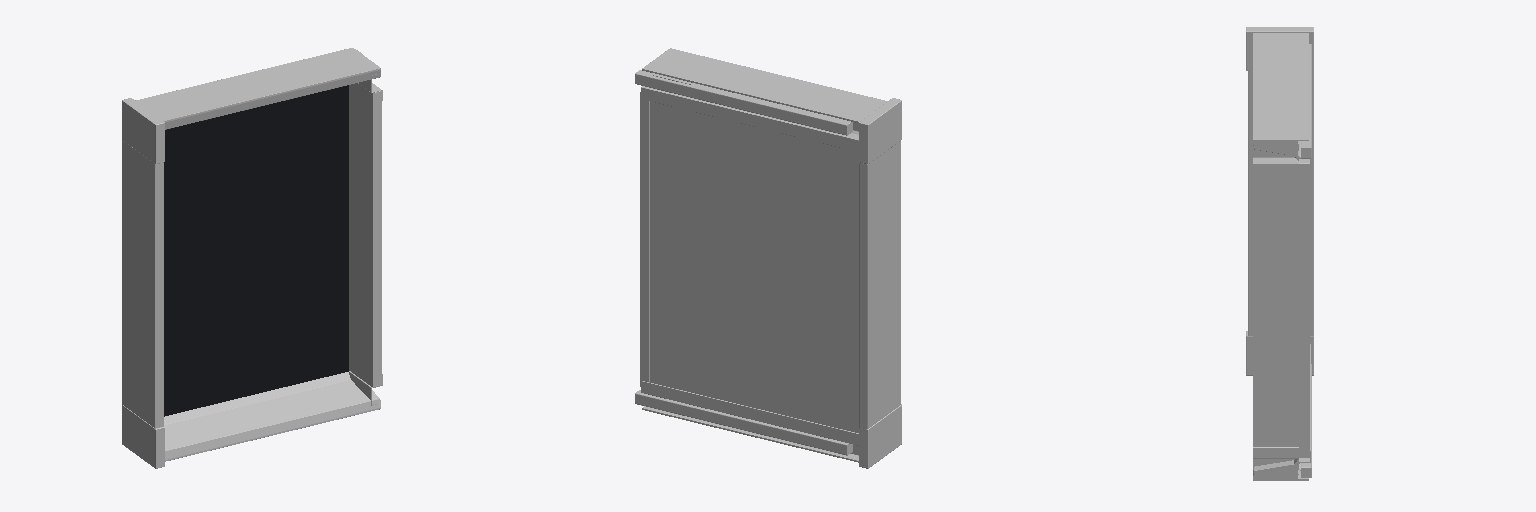
3 views of the same model, side by side, from view 1: azimuth 30°, elevation 25°; view 2: azimuth 150°, elevation 25°; view 3: azimuth 270°, elevation 25° (orthographic).
Visible parts, largest first — view 1: SM_Kitchen_08_Sink_Drawer_021d01d01d0_SM_Kitchen_08_Sink_Drawer_; view 2: SM_Kitchen_08_Sink_Drawer_021d01d01d0_SM_Kitchen_08_Sink_Drawer_; view 3: SM_Kitchen_08_Sink_Drawer_021d01d01d0_SM_Kitchen_08_Sink_Drawer_.
Part boxes in pixels (left/top/right/bottom): SM_Kitchen_08_Sink_Drawer_021d01d01d0_SM_Kitchen_08_Sink_Drawer_: left=122, top=48, right=382, bottom=468; SM_Kitchen_08_Sink_Drawer_021d01d01d0_SM_Kitchen_08_Sink_Drawer_: left=635, top=48, right=901, bottom=468; SM_Kitchen_08_Sink_Drawer_021d01d01d0_SM_Kitchen_08_Sink_Drawer_: left=1246, top=27, right=1313, bottom=480.
Bounding box in the file's own units: 0.401 × 0.5619 × 0.101.
2 materials, 1 textured.